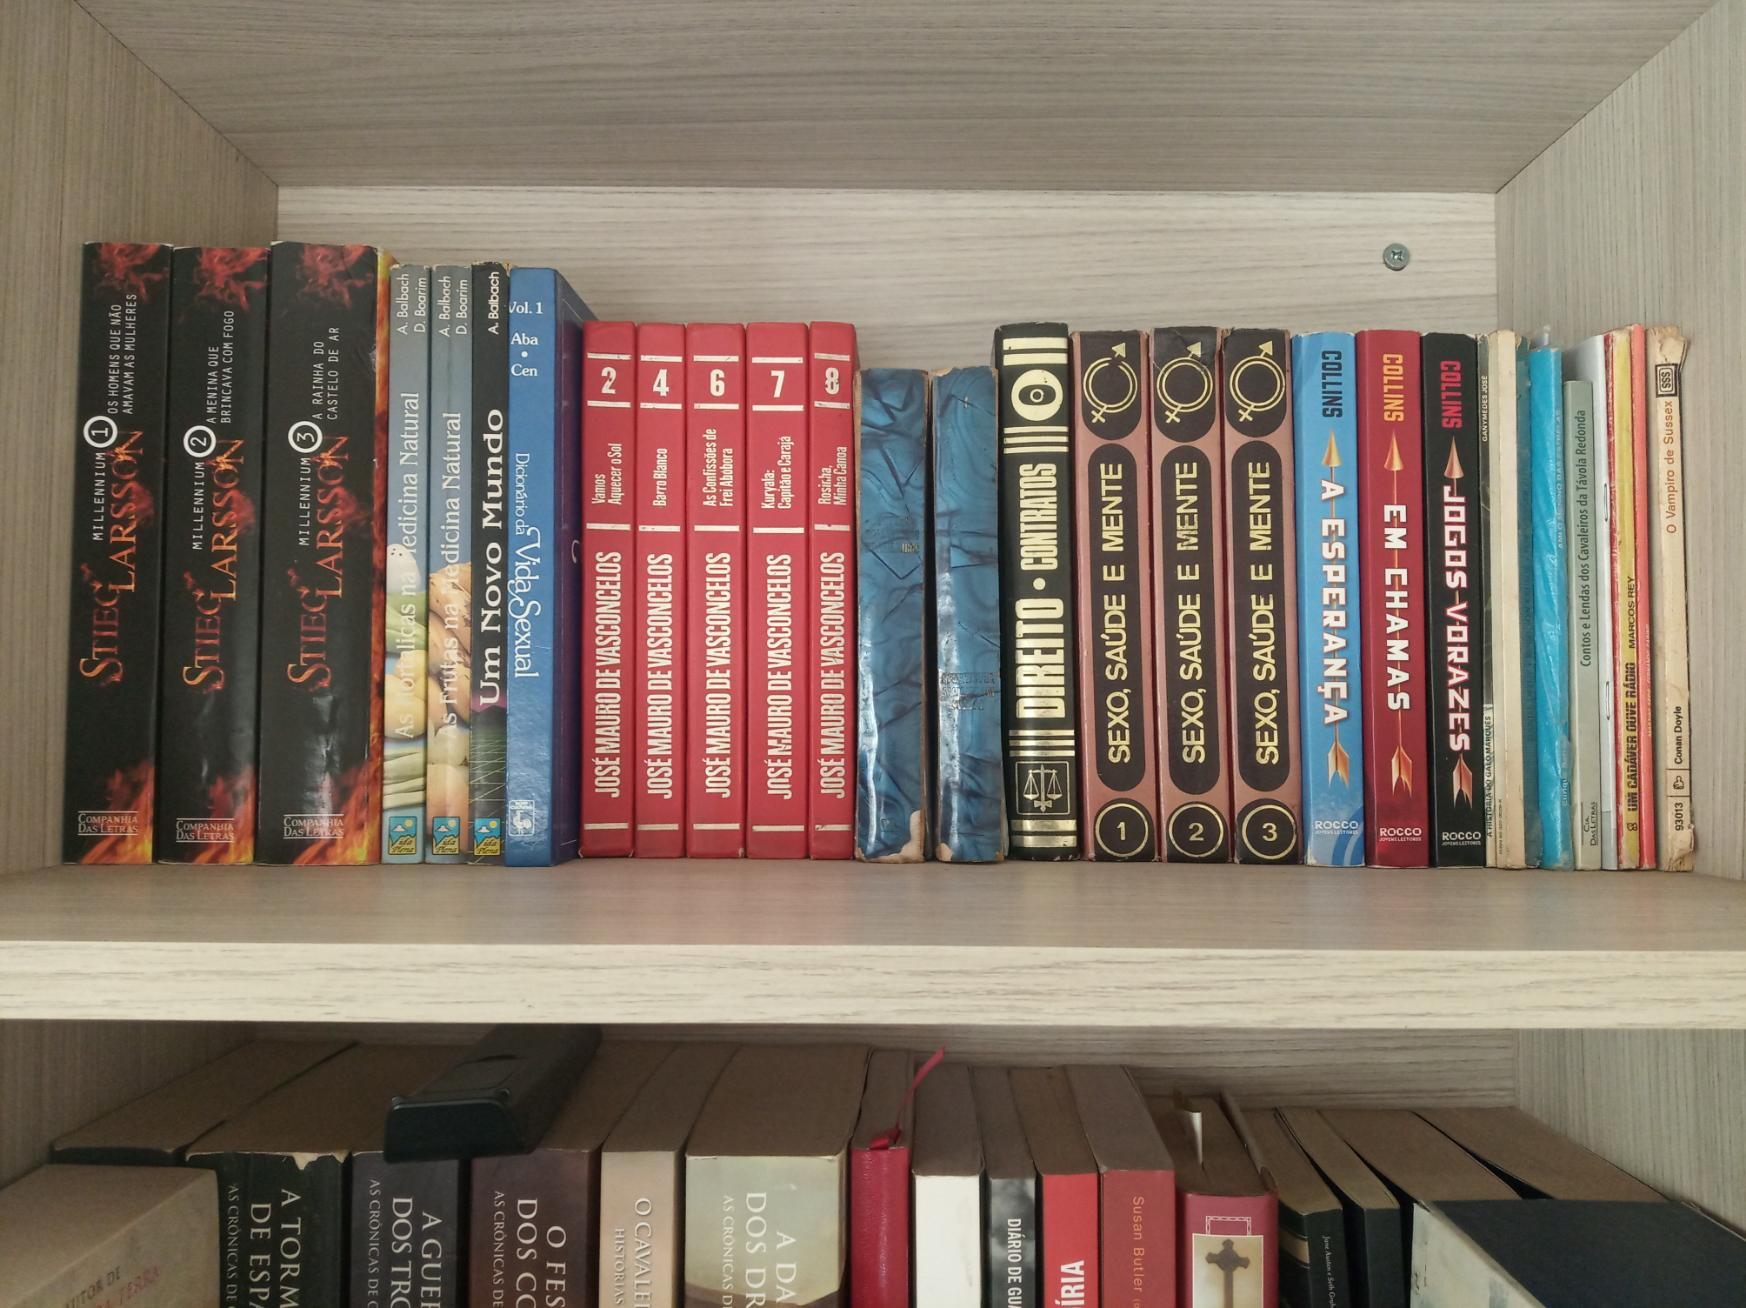book: (271, 240, 365, 863), (74, 253, 146, 866), (1008, 327, 1070, 849), (1089, 332, 1142, 849), (690, 328, 740, 852), (1161, 327, 1212, 844), (1367, 341, 1418, 857), (1243, 337, 1294, 852), (1312, 342, 1363, 857), (863, 378, 915, 842), (941, 389, 993, 853), (754, 328, 800, 853), (1430, 339, 1474, 857), (584, 328, 626, 846), (379, 267, 416, 855), (512, 269, 549, 856), (426, 269, 463, 856), (815, 332, 848, 850), (477, 273, 503, 852), (1539, 364, 1561, 870), (1662, 331, 1683, 861), (1500, 337, 1515, 861)
